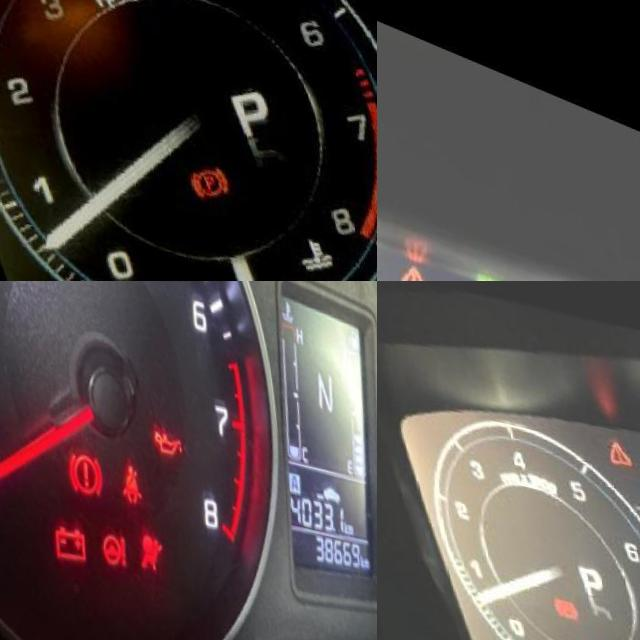Electronic Power Steering: (86, 521, 122, 571)
Engine cooling system: (285, 217, 338, 278)
